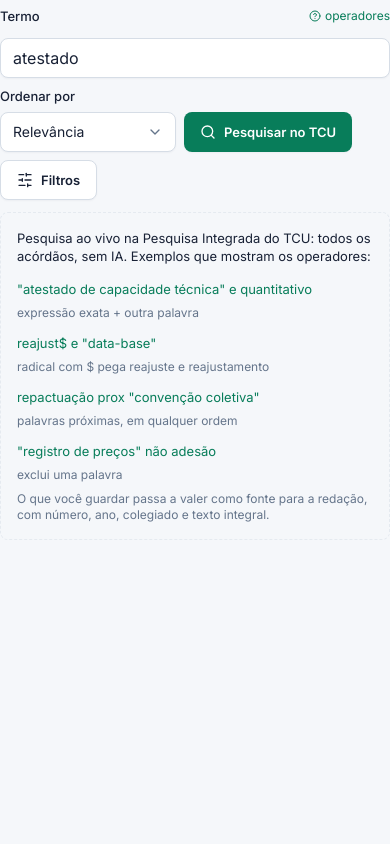
Scenario: PesquisaTcu › guardar na base chama a edge com a chave e marca o acórdão
Click the button "Pesquisar no TCU" at (268, 132), box [184,112,352,152]
(page scrolled)
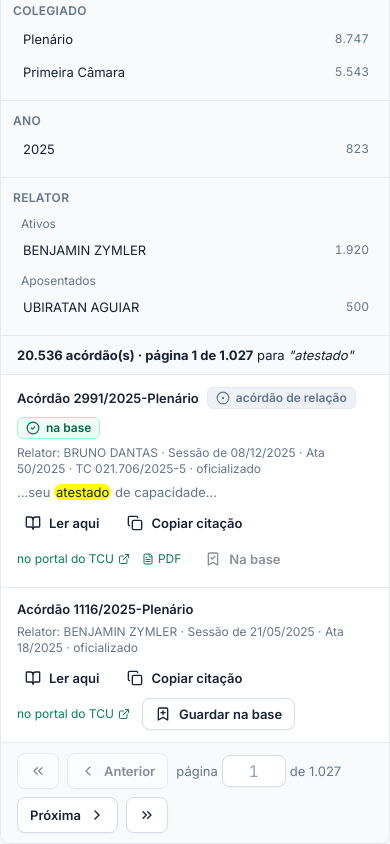
Now the element with test id "resultado-tcu" is shown, box [1,336,389,843]
Click the button "Guardar na base" at (219, 714), box [142,698,295,730]
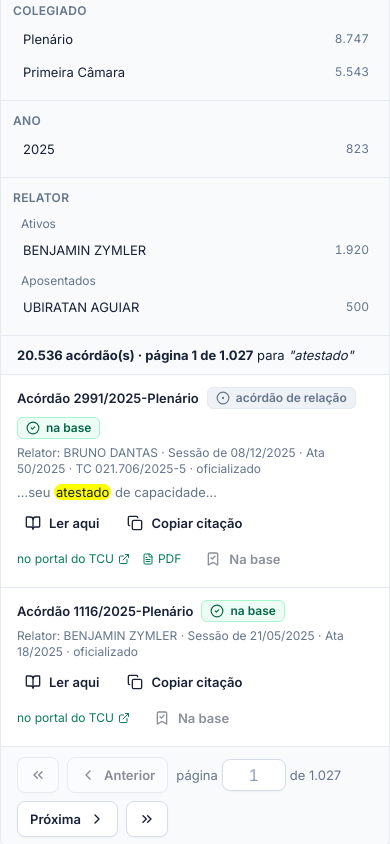
Now the text "na base" is shown 2 times, box [46,420,92,436]; [230,603,276,619]
